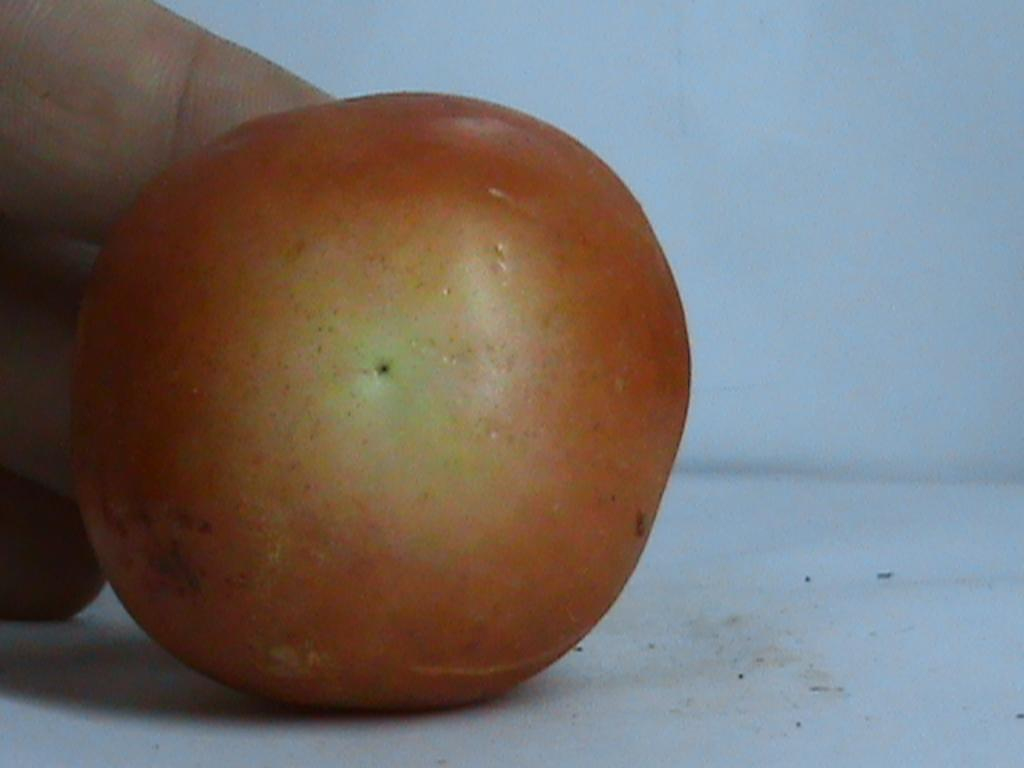bruise_discoloration: (229, 198, 573, 510), (123, 507, 211, 595)
surface_damage: (410, 634, 584, 677), (634, 512, 646, 536)
tomato: (75, 94, 688, 707)
